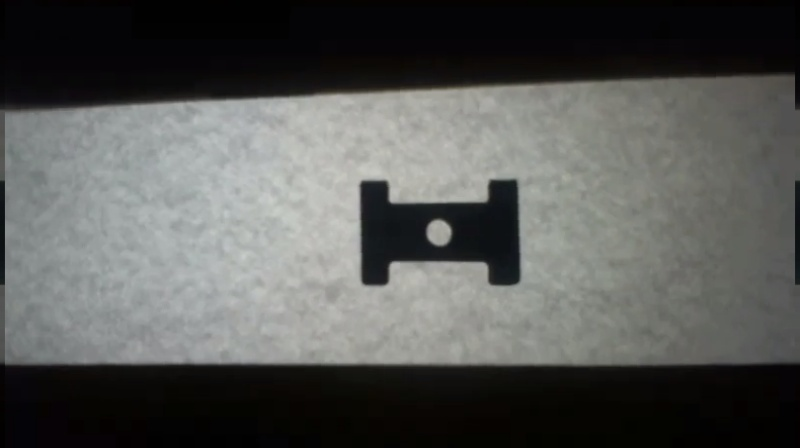O002: (354, 175, 525, 289)
